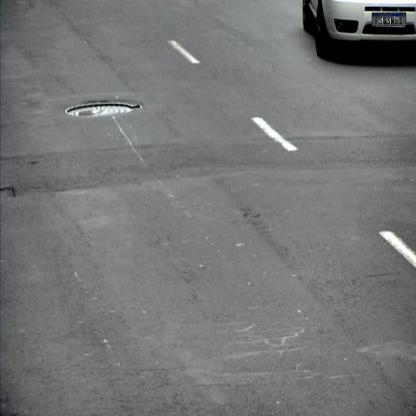PlacaM: (372, 12, 406, 26)
